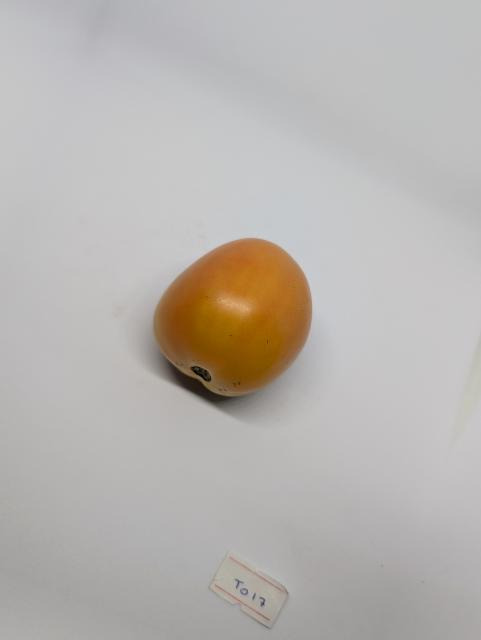turning: (149, 229, 319, 413)
